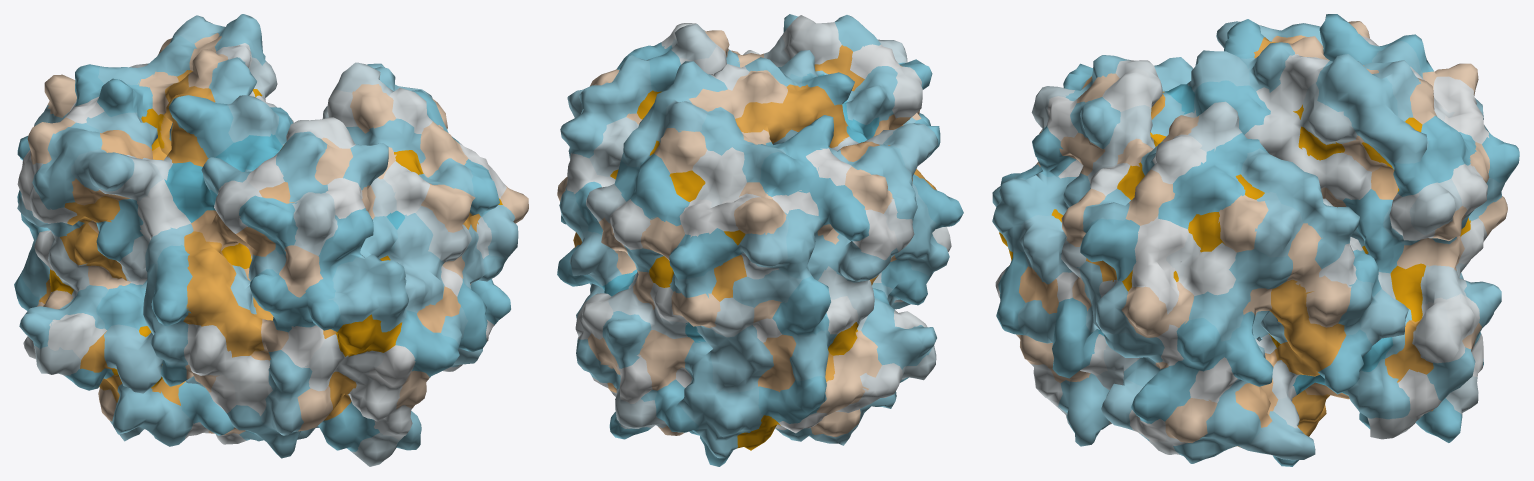
Rendered from diabetes.glb.
3 views of the same model, side by side, from view 1: azimuth 30°, elevation 25°; view 2: azimuth 150°, elevation 25°; view 3: azimuth 270°, elevation 25° (orthographic). The views are drawn at different scales.
Parts seen in each view (by area): view 1: Surface #1; view 2: Surface #1; view 3: Surface #1.
Boxes of the visible parts, left/top/right/bottom form: Surface #1: left=14, top=14, right=528, bottom=466; Surface #1: left=557, top=14, right=963, bottom=466; Surface #1: left=992, top=14, right=1519, bottom=466.
Size of the model in its own units: 67.37 by 58.58 by 68.7.
